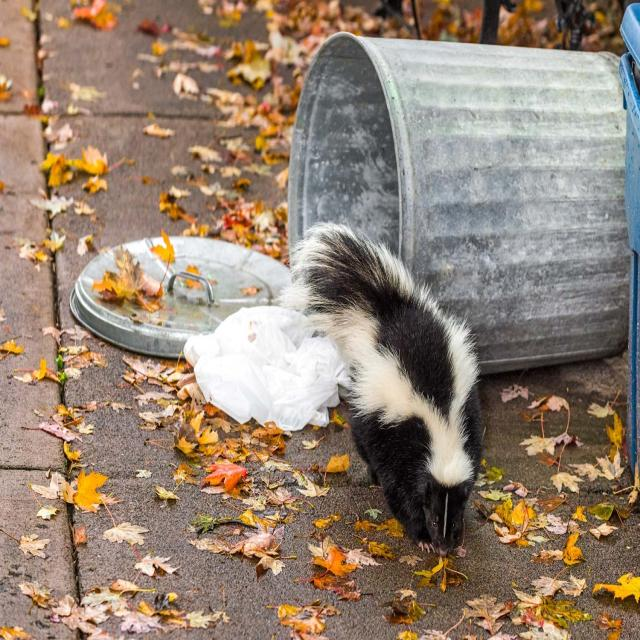Skunk: (279, 190, 491, 578)
